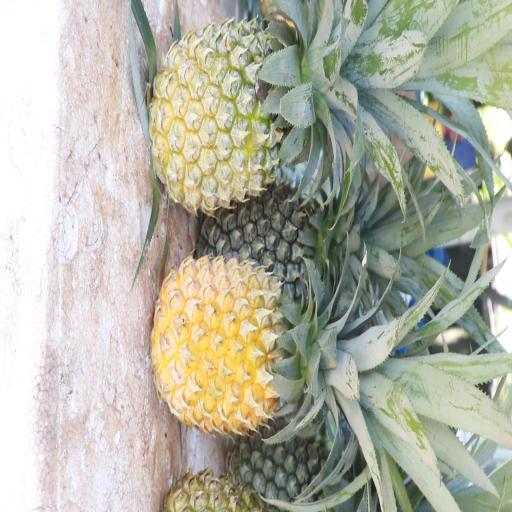------------------------------: (154, 23, 330, 203)
Pineapple - v8 v1: (156, 256, 342, 430)
